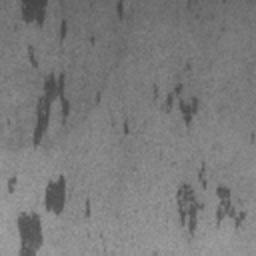Red iron sheet: (177, 161, 246, 243), (17, 175, 66, 256), (33, 73, 70, 147), (153, 83, 199, 127), (22, 0, 67, 41), (28, 45, 38, 68), (7, 175, 17, 194), (116, 0, 124, 20), (84, 199, 91, 218), (123, 119, 130, 135)
